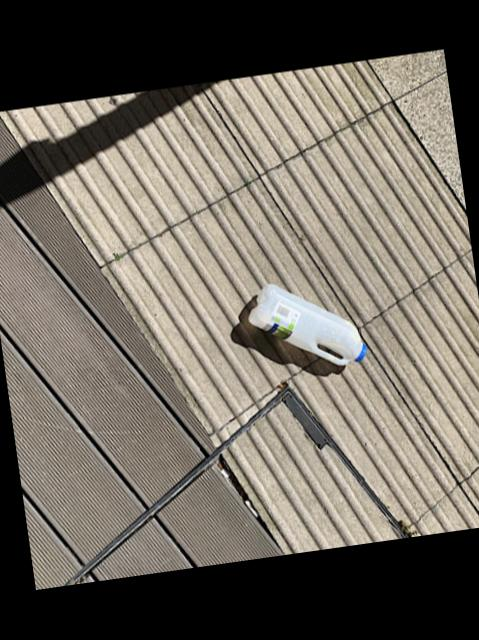plastic: (248, 285, 367, 366)
